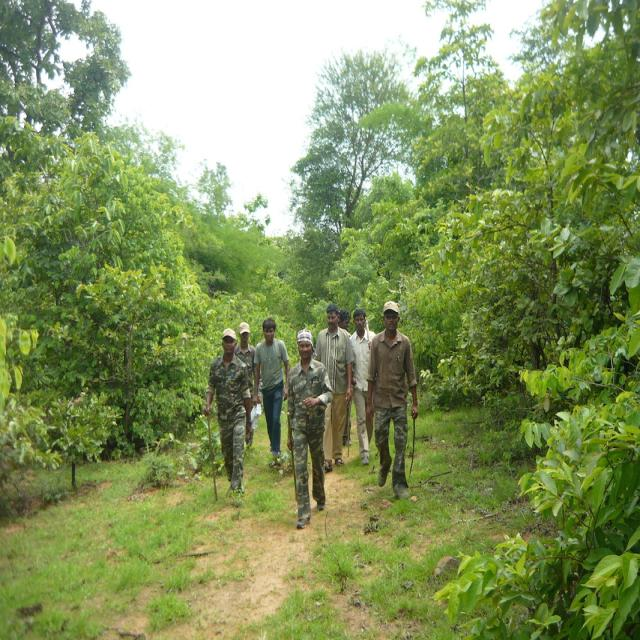Forest: (0, 1, 640, 640)
Militant: (372, 301, 425, 503), (283, 317, 334, 525), (204, 323, 249, 494), (340, 289, 384, 462), (253, 318, 291, 465), (323, 298, 351, 472)
